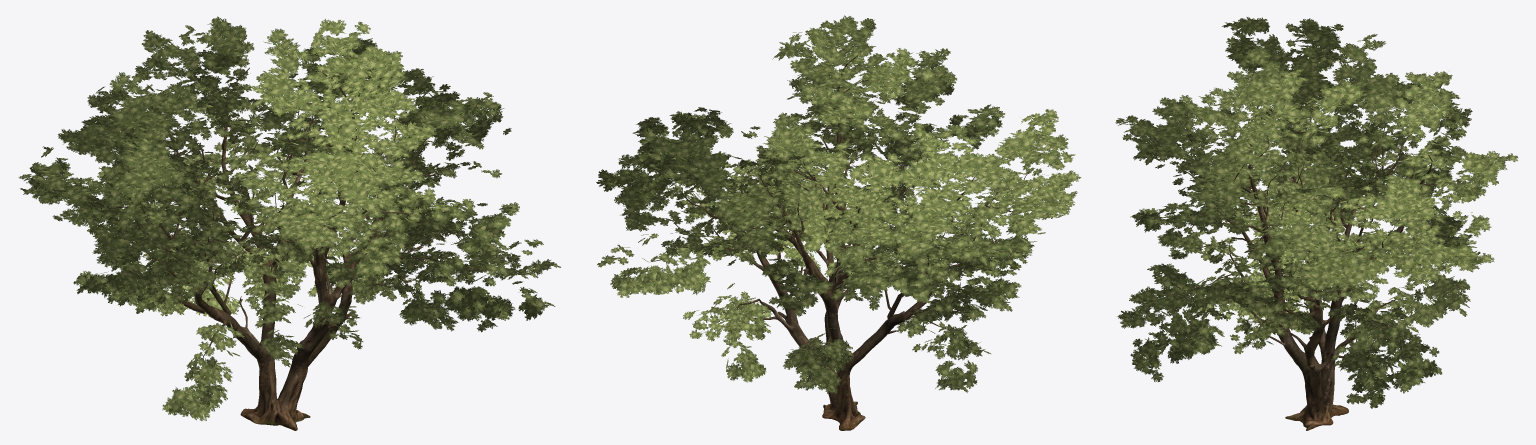
Rendered from jacaranda.glb.
The picture shows the model from 3 angles, left to right: view 1: azimuth 30°, elevation 25°; view 2: azimuth 150°, elevation 25°; view 3: azimuth 270°, elevation 25°; orthographic projection. The views are drawn at different scales.
Visible parts, largest first — view 1: jacaranda; view 2: jacaranda; view 3: jacaranda.
Part boxes in pixels (bbox=[...]): jacaranda: bbox=[18, 16, 560, 430]; jacaranda: bbox=[596, 15, 1081, 430]; jacaranda: bbox=[1115, 17, 1517, 430].
Size of the model in its own units: 24.83 by 19.63 by 19.65.
Materials: 2 (2 with a texture image).
